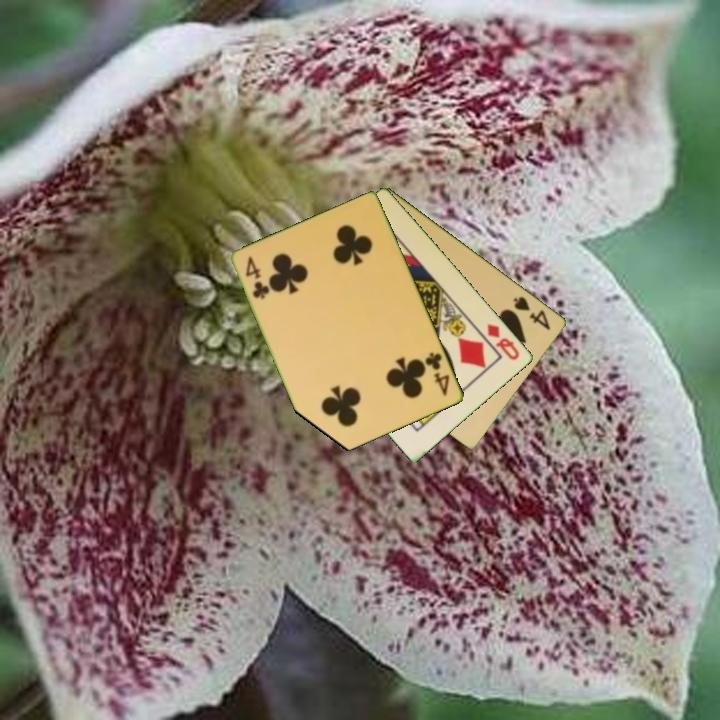4c: (422, 349, 453, 399), (242, 252, 272, 302)
4s: (510, 293, 554, 333)
Qd: (484, 320, 523, 363)
